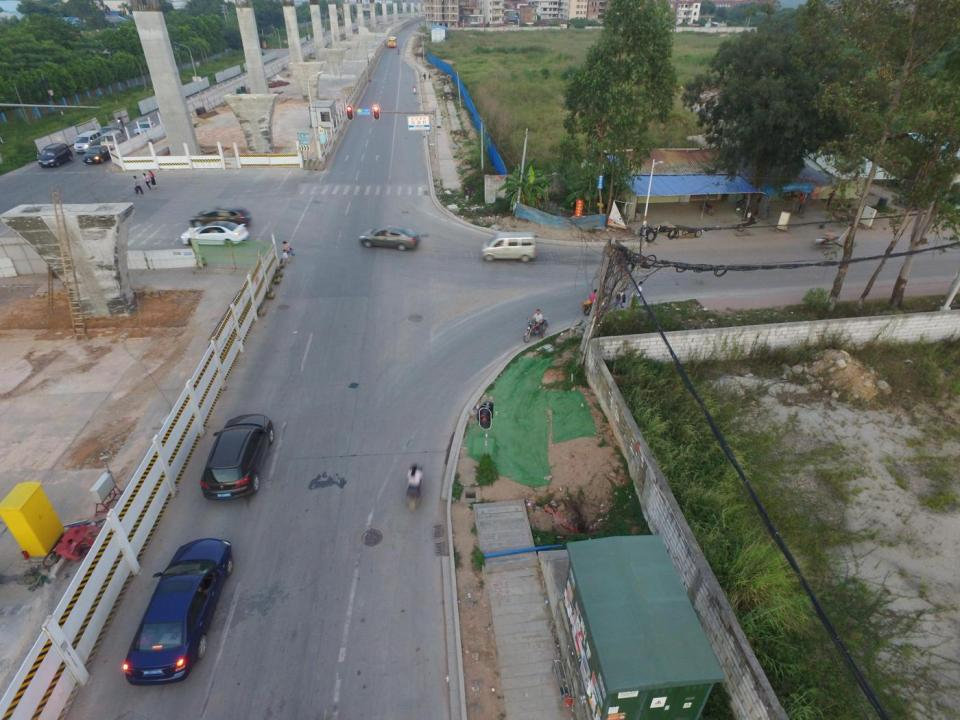bus: (387, 36, 397, 48)
car: (122, 539, 234, 684), (202, 413, 276, 498), (183, 220, 246, 247), (359, 224, 418, 252), (194, 206, 252, 224), (82, 145, 110, 162), (97, 125, 122, 140), (134, 121, 155, 135)
van: (481, 232, 537, 262), (39, 144, 71, 167), (76, 132, 104, 153), (100, 130, 126, 150)
